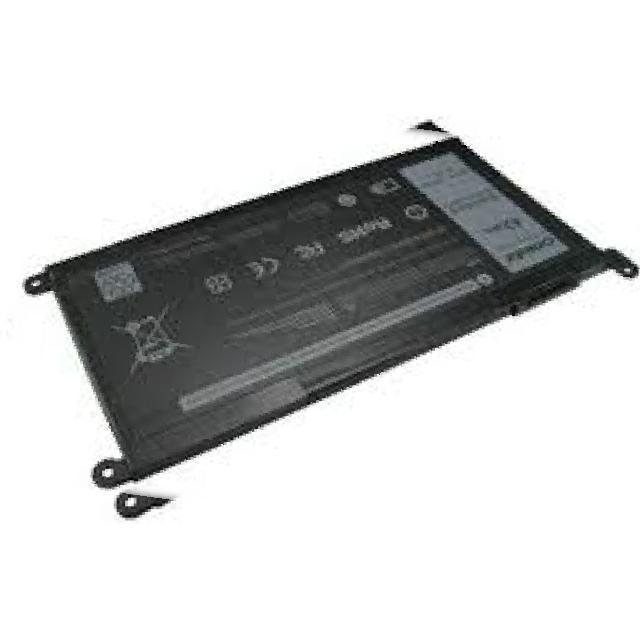Battery: (7, 113, 639, 496)
